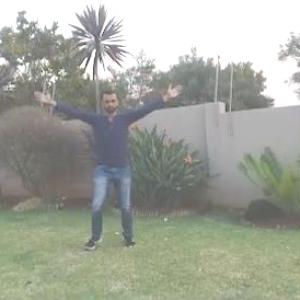takeoff: (23, 82, 186, 250)
